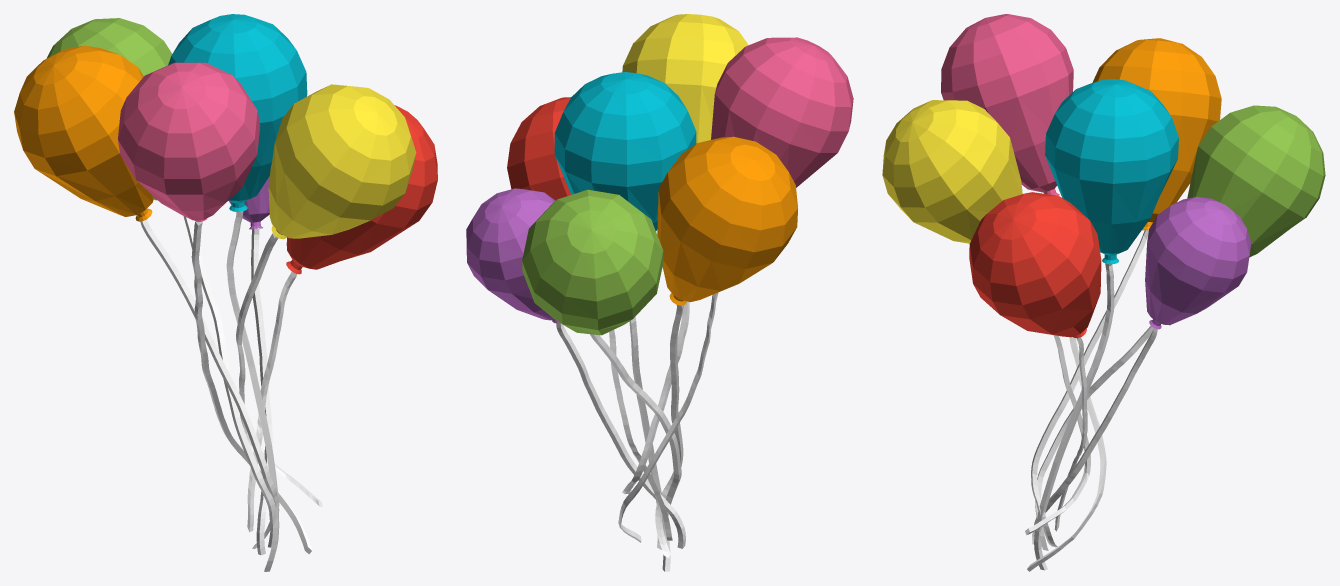
Rendered from balloons.glb.
3 renders of one model, left to right at view 1: azimuth 30°, elevation 25°; view 2: azimuth 150°, elevation 25°; view 3: azimuth 270°, elevation 25°, orthographic. The views are drawn at different scales.
Parts seen in each view (by area): view 1: balloons; view 2: balloons; view 3: balloons.
Part boxes in pixels (x1=…): balloons: x1=14, y1=14, x2=437, y2=571; balloons: x1=466, y1=14, x2=853, y2=571; balloons: x1=882, y1=14, x2=1325, y2=571.
Size of the model in its own units: 1.12 by 1.7 by 1.35.
